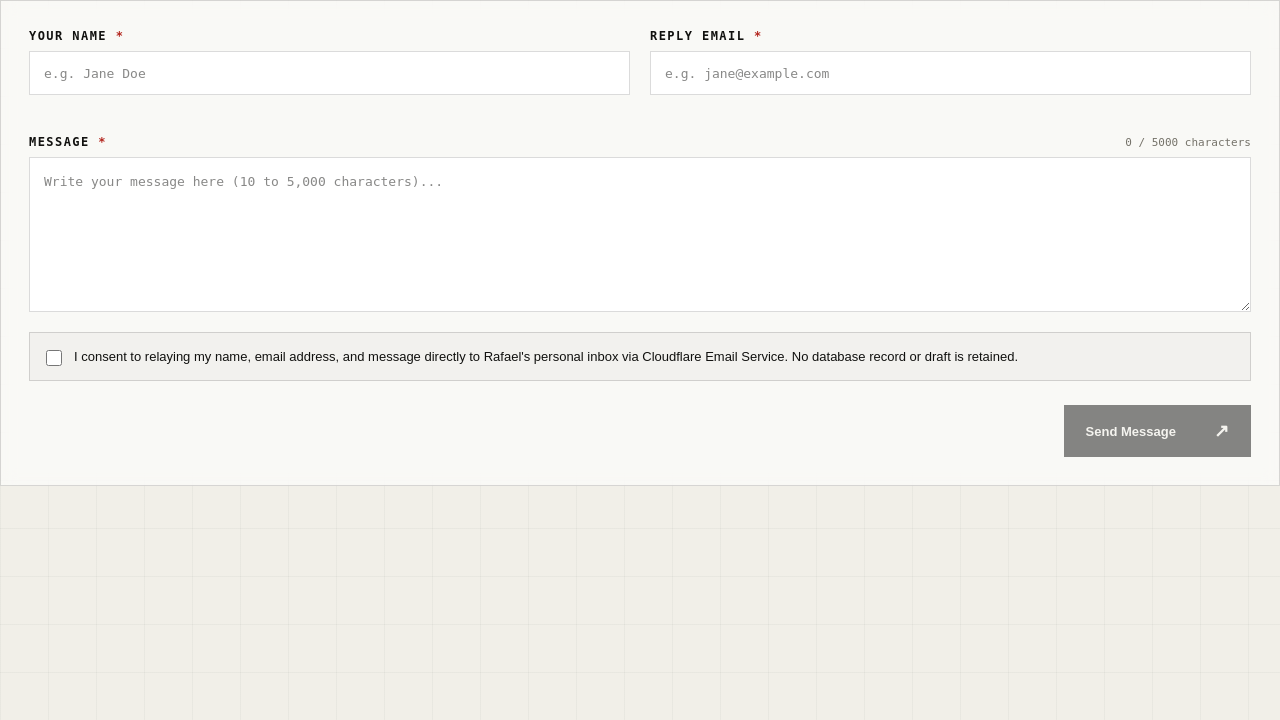
Test: ContactForm flow with a fake network › sends once for a double submission
Type "Jane Doe" into the field labelled "Your Name *" at (330, 73), box [29,51,630,95]
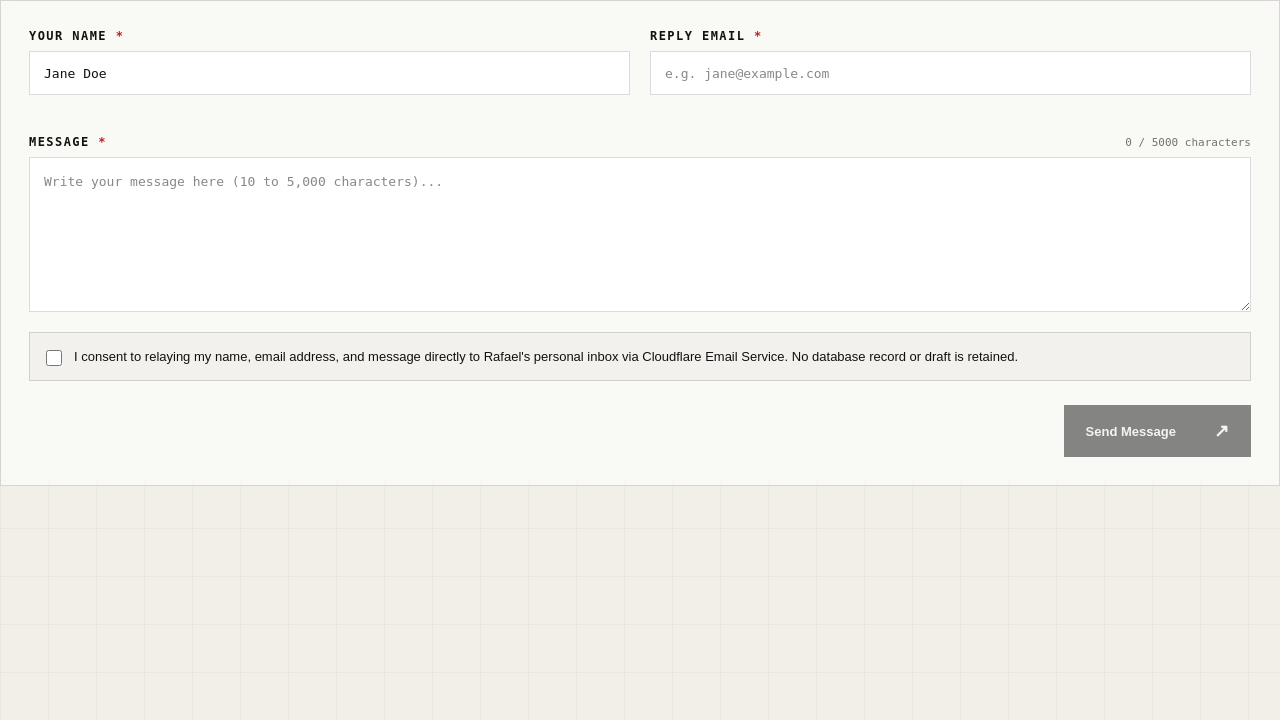
Type "jane@example.com" into the field labelled "Reply Email *" at (950, 73), box [650,51,1251,95]
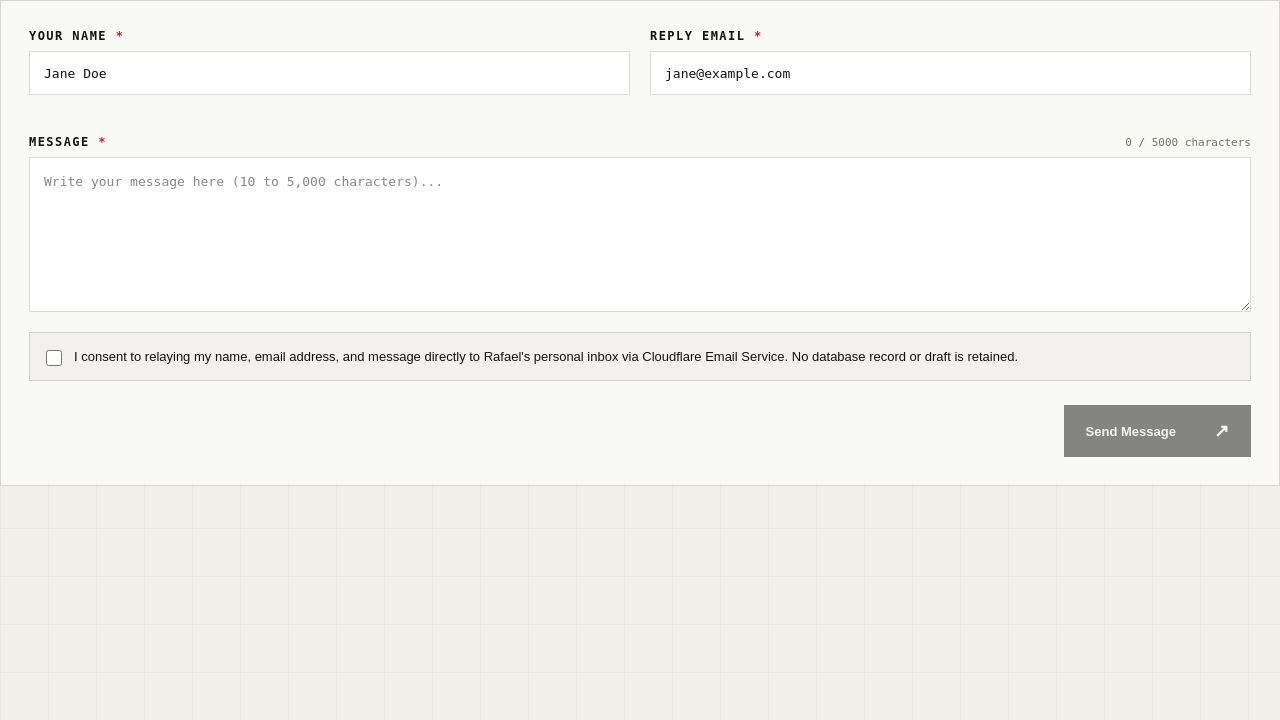
Type "Hello Rafael, inquiry about your work." into the text box labelled "Message *" at (640, 234), box [29,157,1251,312]
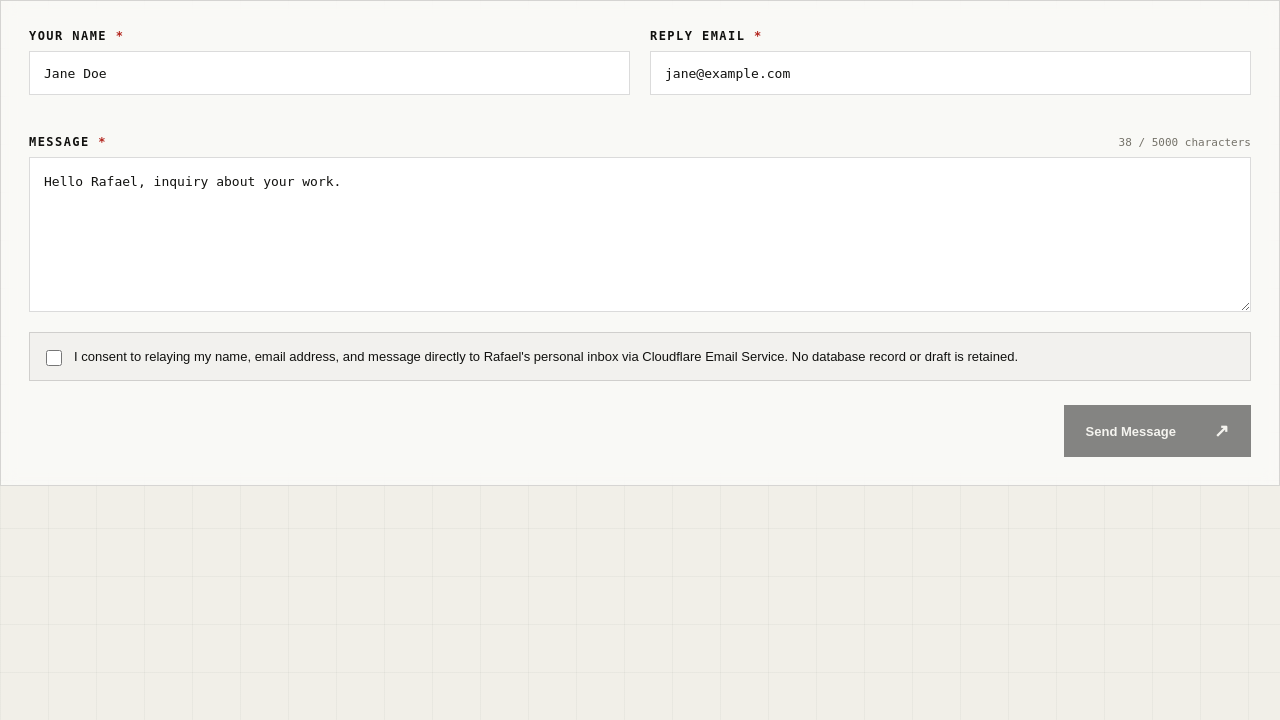
Click the checkbox at (54, 358), box [46,350,62,366]
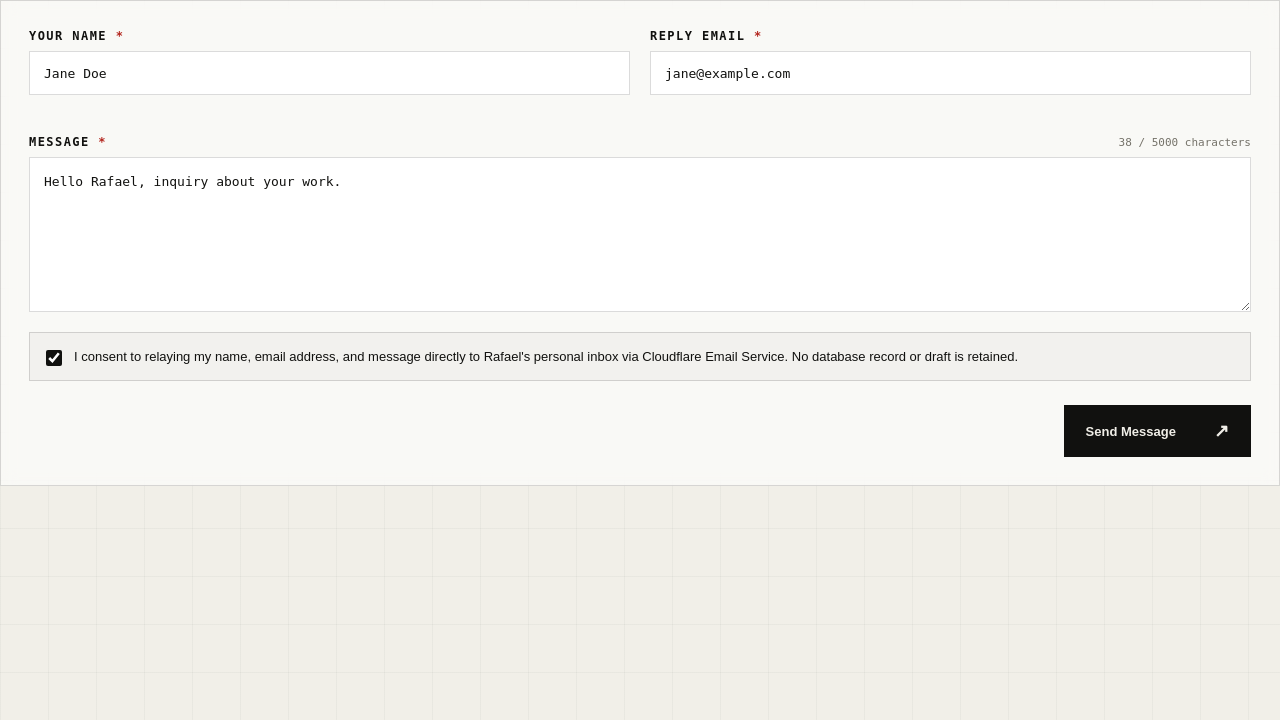
Submit the form named "send message", box [29,29,1251,457]
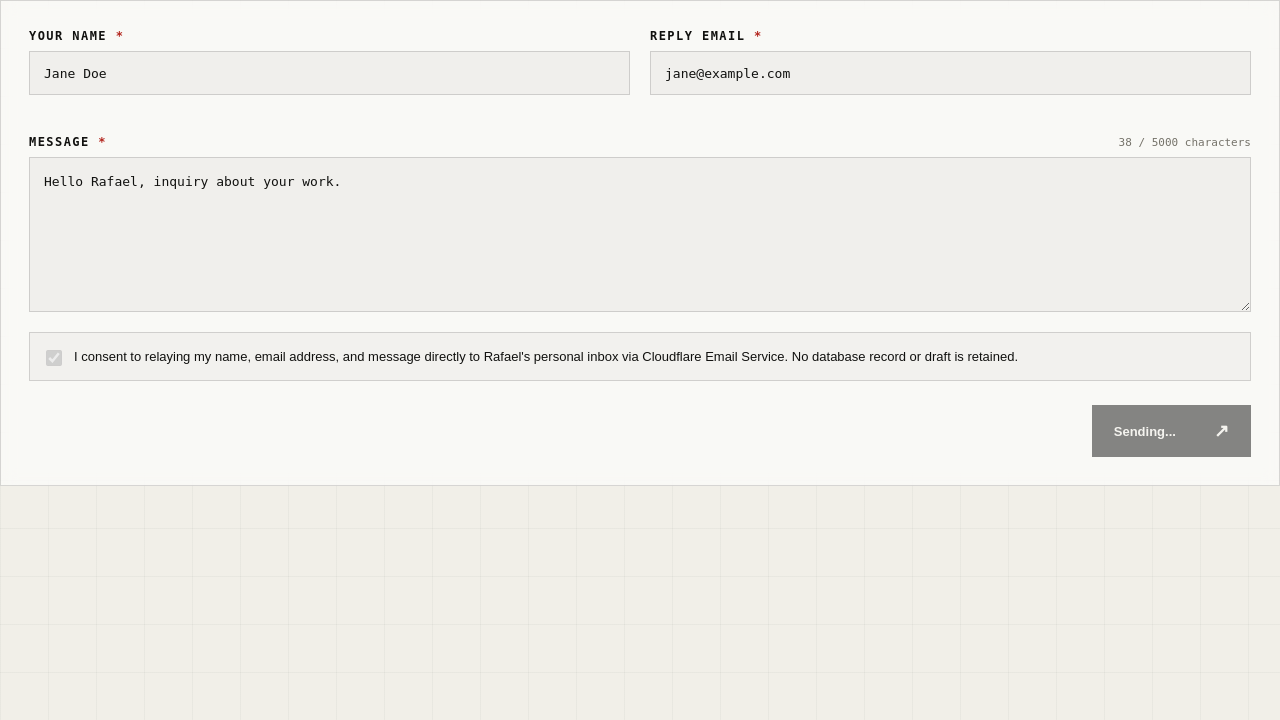
Submit the form named "send message", box [29,29,1251,457]
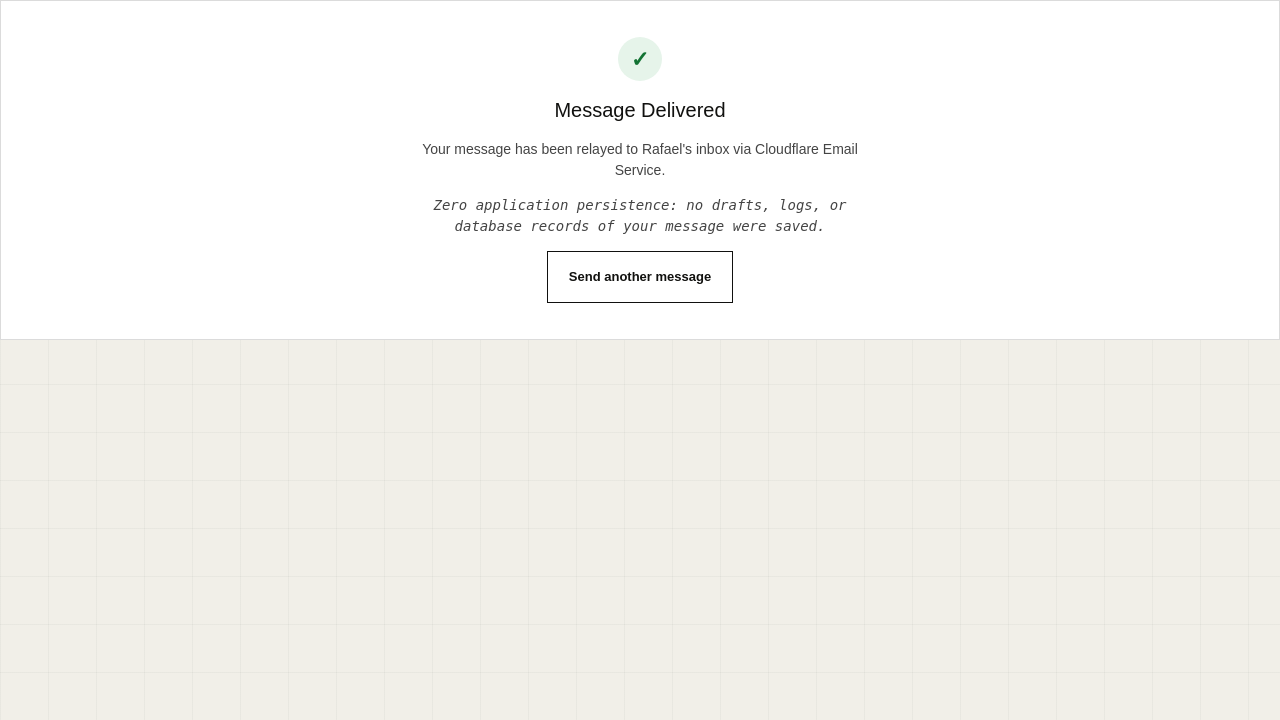
Check: the heading "Message Delivered" is shown, box [554,95,726,125]
